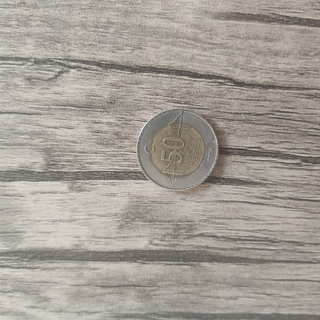50KURUS: (134, 106, 220, 192)
